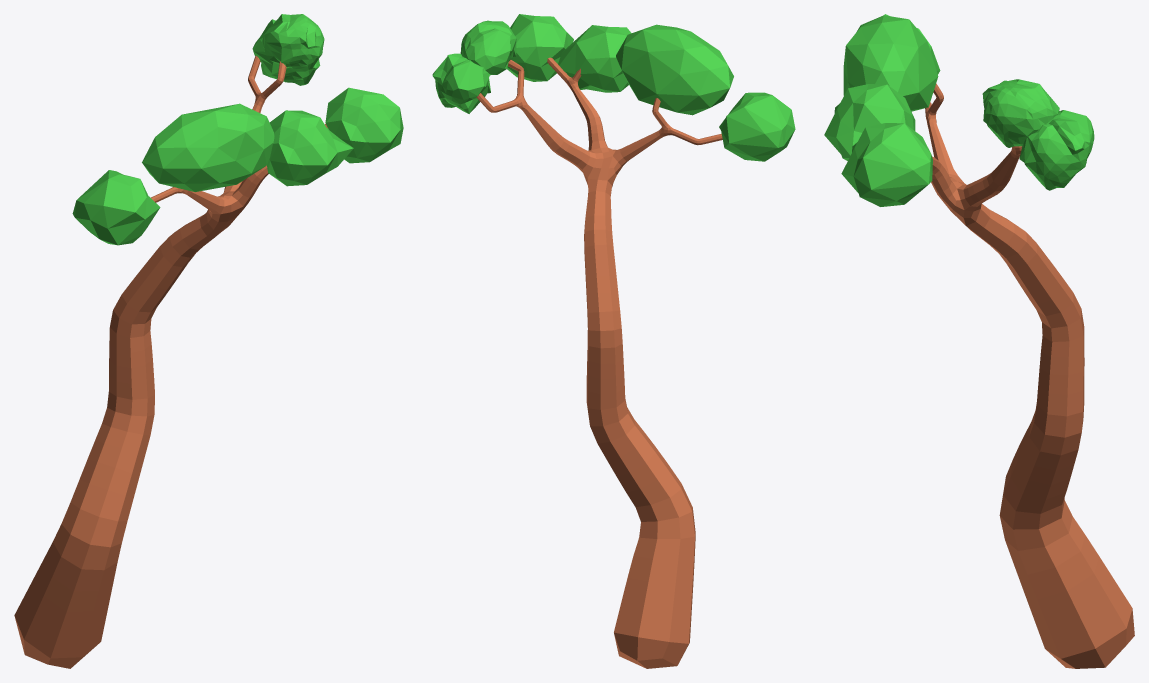
File: exportedtree.gltf
The picture shows the model from 3 angles, left to right: view 1: azimuth 30°, elevation 25°; view 2: azimuth 150°, elevation 25°; view 3: azimuth 270°, elevation 25°; orthographic projection. The views are drawn at different scales.
Visible parts, largest first — view 1: Cube.001, Icosphere.003, Icosphere.005, Icosphere.001, Icosphere.004, Icosphere.007, Icosphere.006; view 2: Cube.001, Icosphere.003, Icosphere.001, Icosphere.005, Icosphere.004, Icosphere.006, Icosphere.007; view 3: Cube.001, Icosphere.003, Icosphere.004, Icosphere.006, Icosphere.007, Icosphere.005.
Boxes of the visible parts, left/top/right/bottom form: Cube.001: left=14, top=56, right=327, bottom=668; Icosphere.003: left=142, top=103, right=274, bottom=191; Icosphere.005: left=267, top=110, right=353, bottom=186; Icosphere.001: left=72, top=170, right=160, bottom=245; Icosphere.004: left=325, top=87, right=403, bottom=163; Icosphere.007: left=262, top=14, right=324, bottom=71; Icosphere.006: left=252, top=19, right=320, bottom=85; Cube.001: left=476, top=57, right=722, bottom=668; Icosphere.003: left=616, top=24, right=733, bottom=115; Icosphere.001: left=719, top=92, right=795, bottom=161; Icosphere.005: left=558, top=25, right=631, bottom=92; Icosphere.004: left=507, top=14, right=573, bottom=81; Icosphere.006: left=432, top=53, right=490, bottom=113; Icosphere.007: left=460, top=20, right=516, bottom=75; Cube.001: left=925, top=83, right=1134, bottom=668; Icosphere.003: left=843, top=15, right=938, bottom=111; Icosphere.004: left=841, top=123, right=932, bottom=206; Icosphere.006: left=1019, top=110, right=1094, bottom=190; Icosphere.007: left=982, top=79, right=1059, bottom=147; Icosphere.005: left=824, top=84, right=915, bottom=160.
Size of the model in its own units: 2.47 by 4.67 by 1.89.
